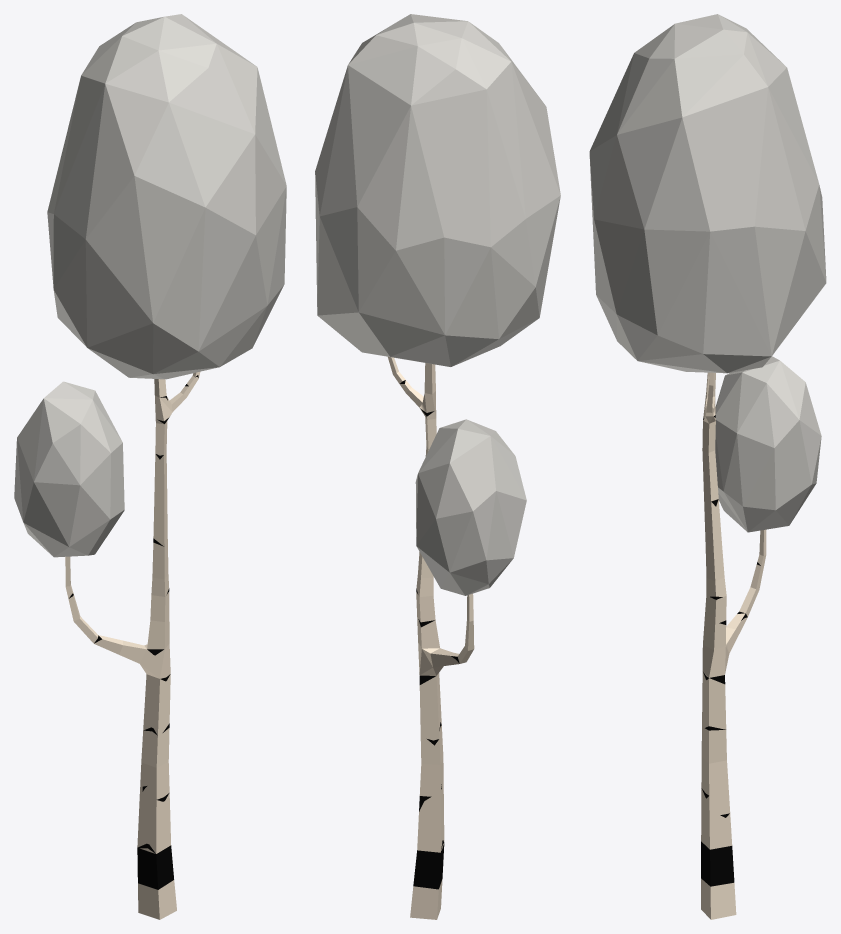
Rendered from Birch_L_flat.glb.
3 renders of one model, left to right at view 1: azimuth 30°, elevation 25°; view 2: azimuth 150°, elevation 25°; view 3: azimuth 270°, elevation 25°, orthographic.
Visible parts, largest first — view 1: Birch big green f; view 2: Birch big green f; view 3: Birch big green f.
Boxes of the visible parts, x1=… form: Birch big green f: x1=14, y1=14, x2=286, y2=919; Birch big green f: x1=315, y1=14, x2=560, y2=919; Birch big green f: x1=589, y1=14, x2=826, y2=919.
Bounding box in the file's own units: 4.3 × 16.84 × 4.08.
